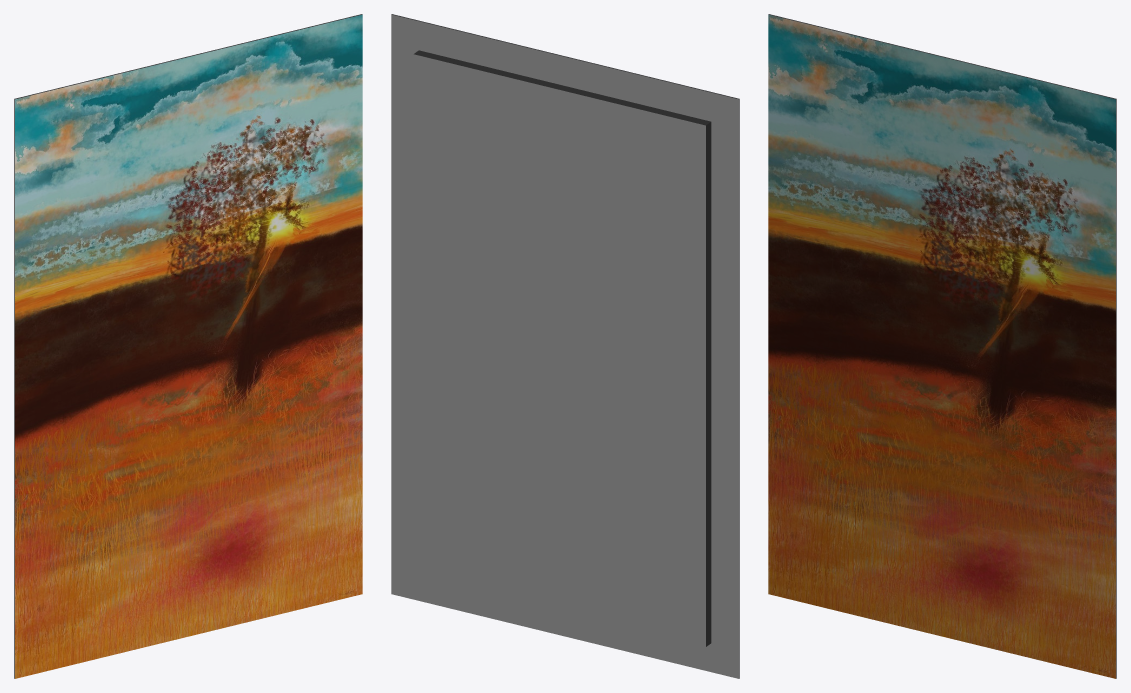
The model's file is os012_grand_dibond.glb.
3 renders of one model, left to right at view 1: azimuth 30°, elevation 25°; view 2: azimuth 150°, elevation 25°; view 3: azimuth 330°, elevation 25°, orthographic.
Parts seen in each view (by area): view 1: os012_grand_dibond; view 2: os012_grand_dibond; view 3: os012_grand_dibond.
Part boxes in pixels (x1=…): os012_grand_dibond: x1=14, y1=14, x2=362, y2=678; os012_grand_dibond: x1=391, y1=14, x2=739, y2=678; os012_grand_dibond: x1=768, y1=14, x2=1116, y2=678.
Bounding box in the file's own units: 0.7537 × 1.2 × 0.023.
4 materials, 1 textured.
